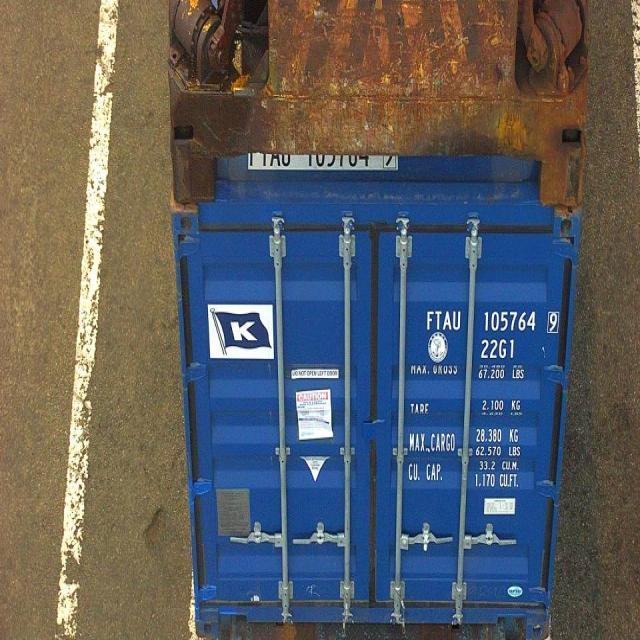ISO: (482, 339, 518, 361)
container_number: (424, 311, 559, 334)
